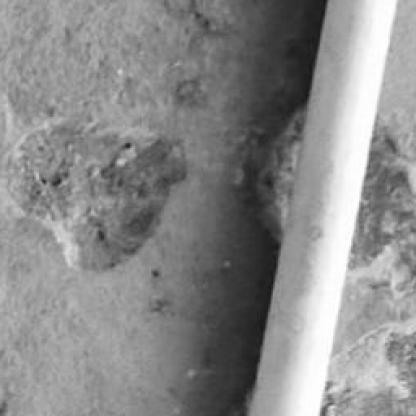PVC: (247, 3, 398, 414)
